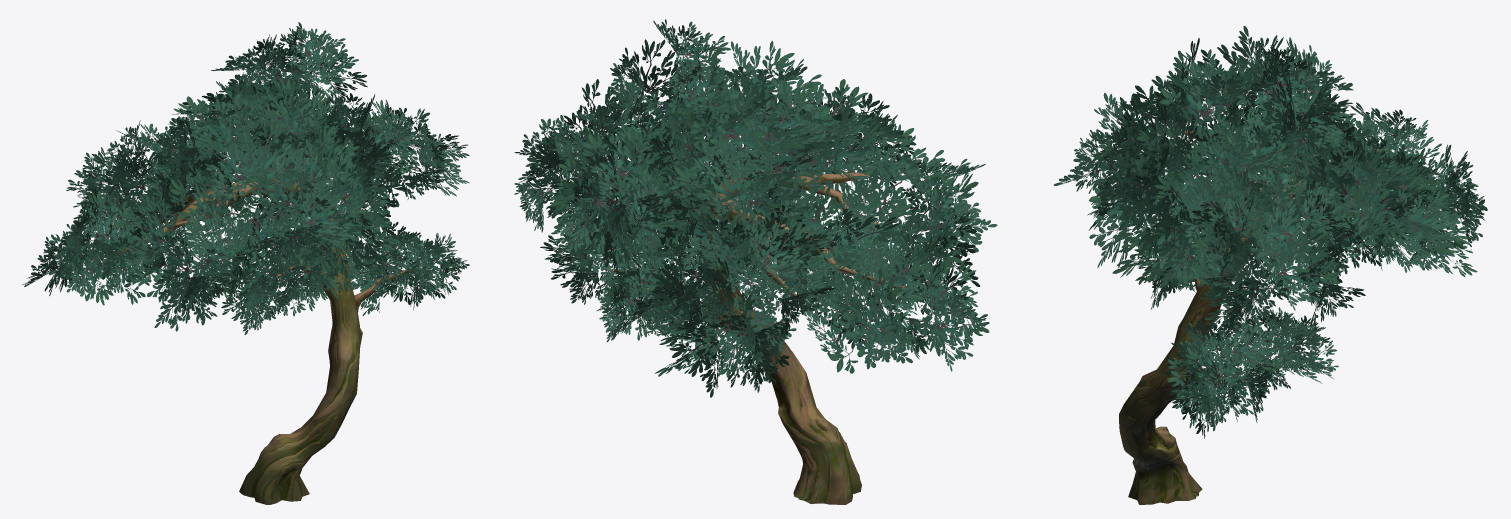
Rendered from Tree01.fbx.
3 renders of one model, left to right at view 1: azimuth 30°, elevation 25°; view 2: azimuth 150°, elevation 25°; view 3: azimuth 270°, elevation 25°, orthographic. The views are drawn at different scales.
Parts seen in each view (by area): view 1: Tree01; view 2: Tree01; view 3: Tree01.
Boxes of the visible parts, box(x1,y1,x2,y2) form: Tree01: box(22, 22, 469, 504); Tree01: box(514, 19, 997, 504); Tree01: box(1054, 26, 1487, 504).
Size of the model in its own units: 30.01 by 23.05 by 27.38.
2 materials, 2 textured.
